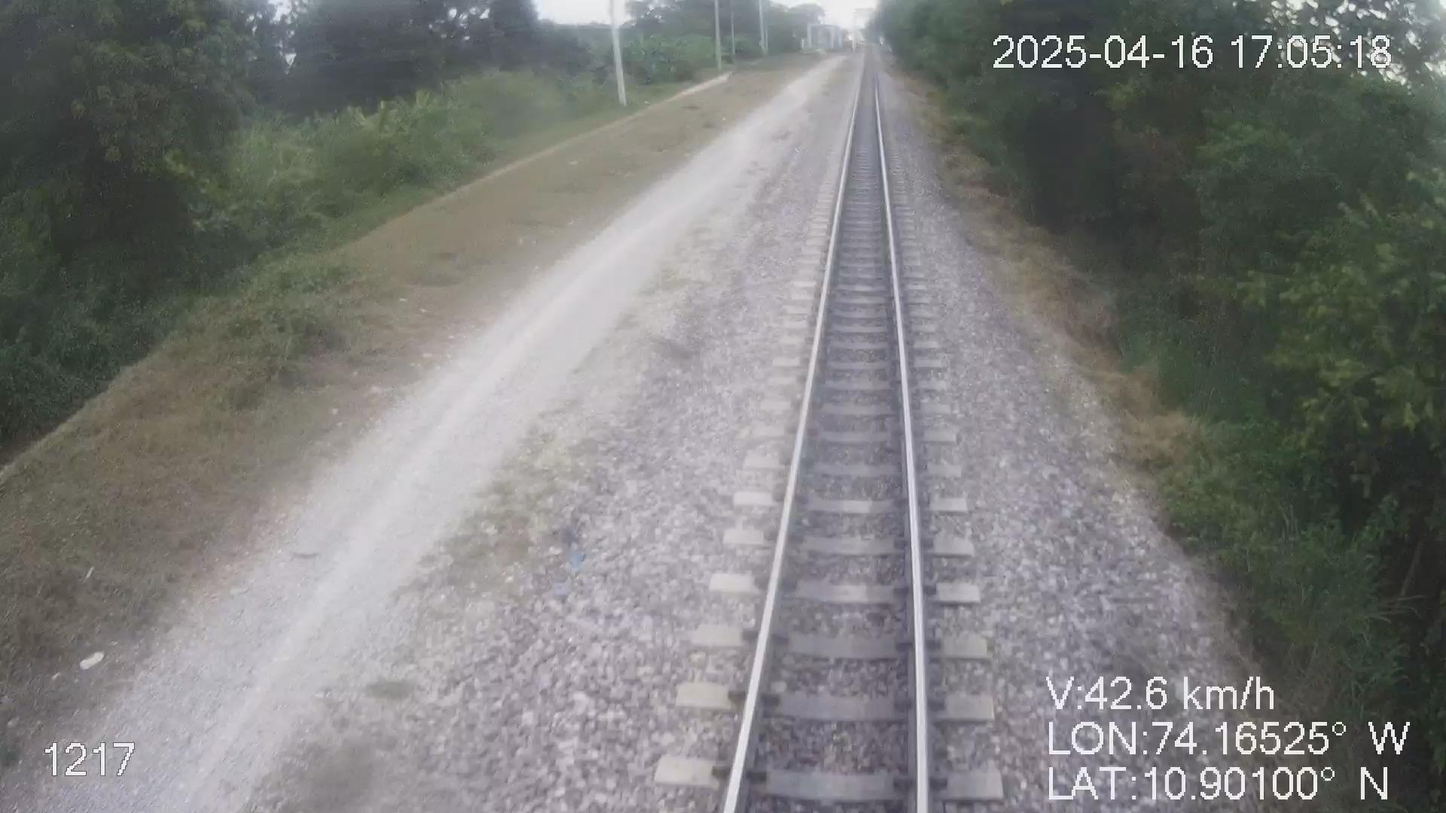Pasto: (0, 0, 809, 757)
